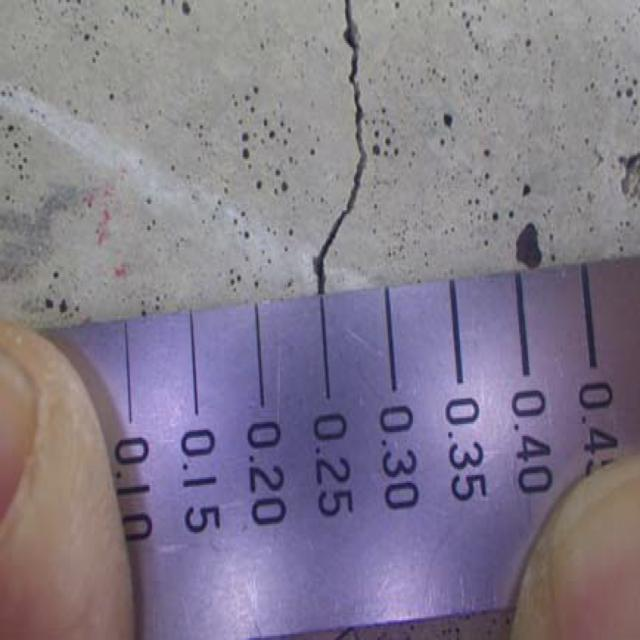crack: (302, 3, 384, 294)
